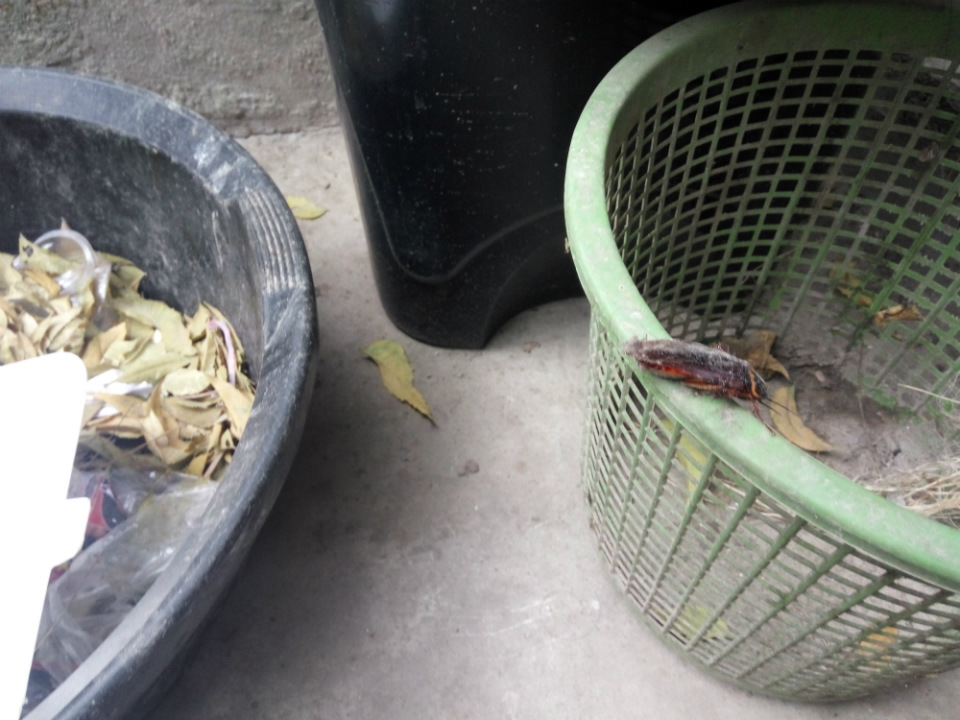cockroach: (581, 275, 801, 446)
